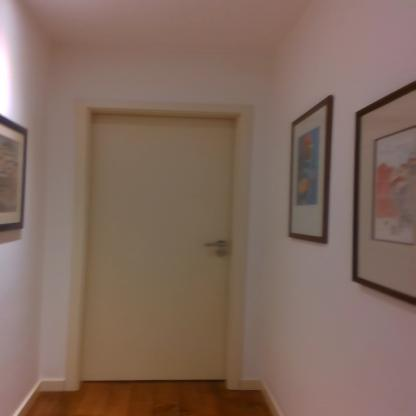closed: (66, 87, 271, 398)
